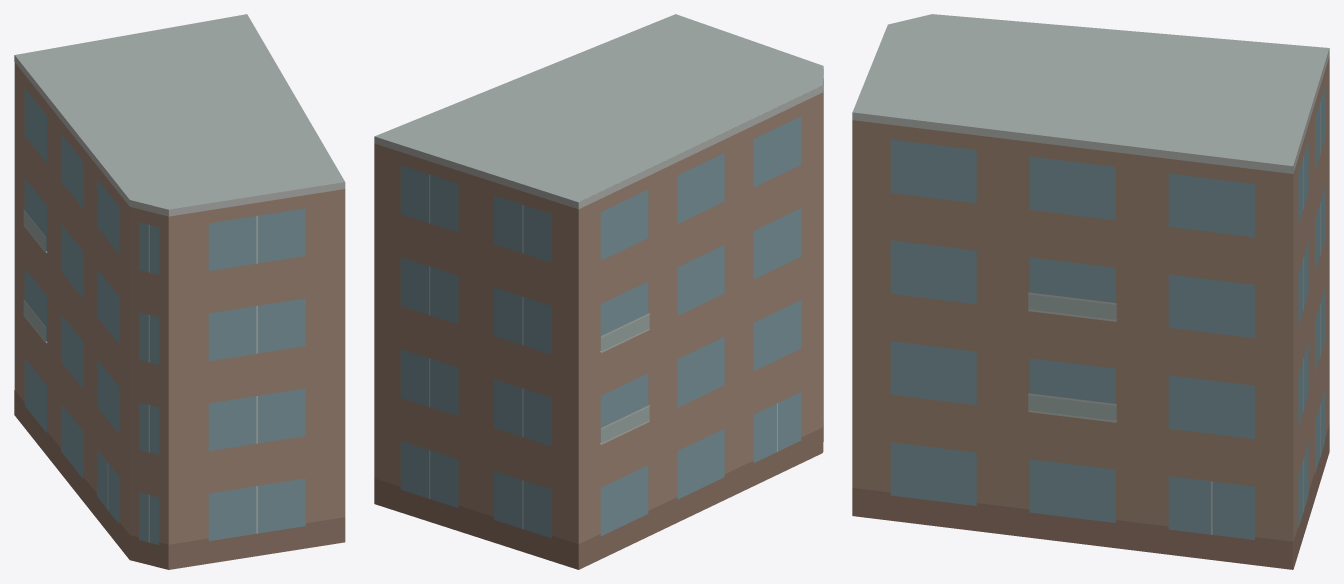
Rendered from survey-upis-32646397.glb.
3 renders of one model, left to right at view 1: azimuth 30°, elevation 25°; view 2: azimuth 150°, elevation 25°; view 3: azimuth 270°, elevation 25°, orthographic. The views are drawn at different scales.
Parts seen in each view (by area): view 1: survey-upis-32646397.tmp; view 2: survey-upis-32646397.tmp; view 3: survey-upis-32646397.tmp.
Part boxes in pixels (bbox=[...]): survey-upis-32646397.tmp: bbox=[14, 14, 345, 569]; survey-upis-32646397.tmp: bbox=[374, 14, 823, 569]; survey-upis-32646397.tmp: bbox=[852, 14, 1329, 569].
Bounding box in the file's own units: 10.37 × 12.8 × 13.73.
